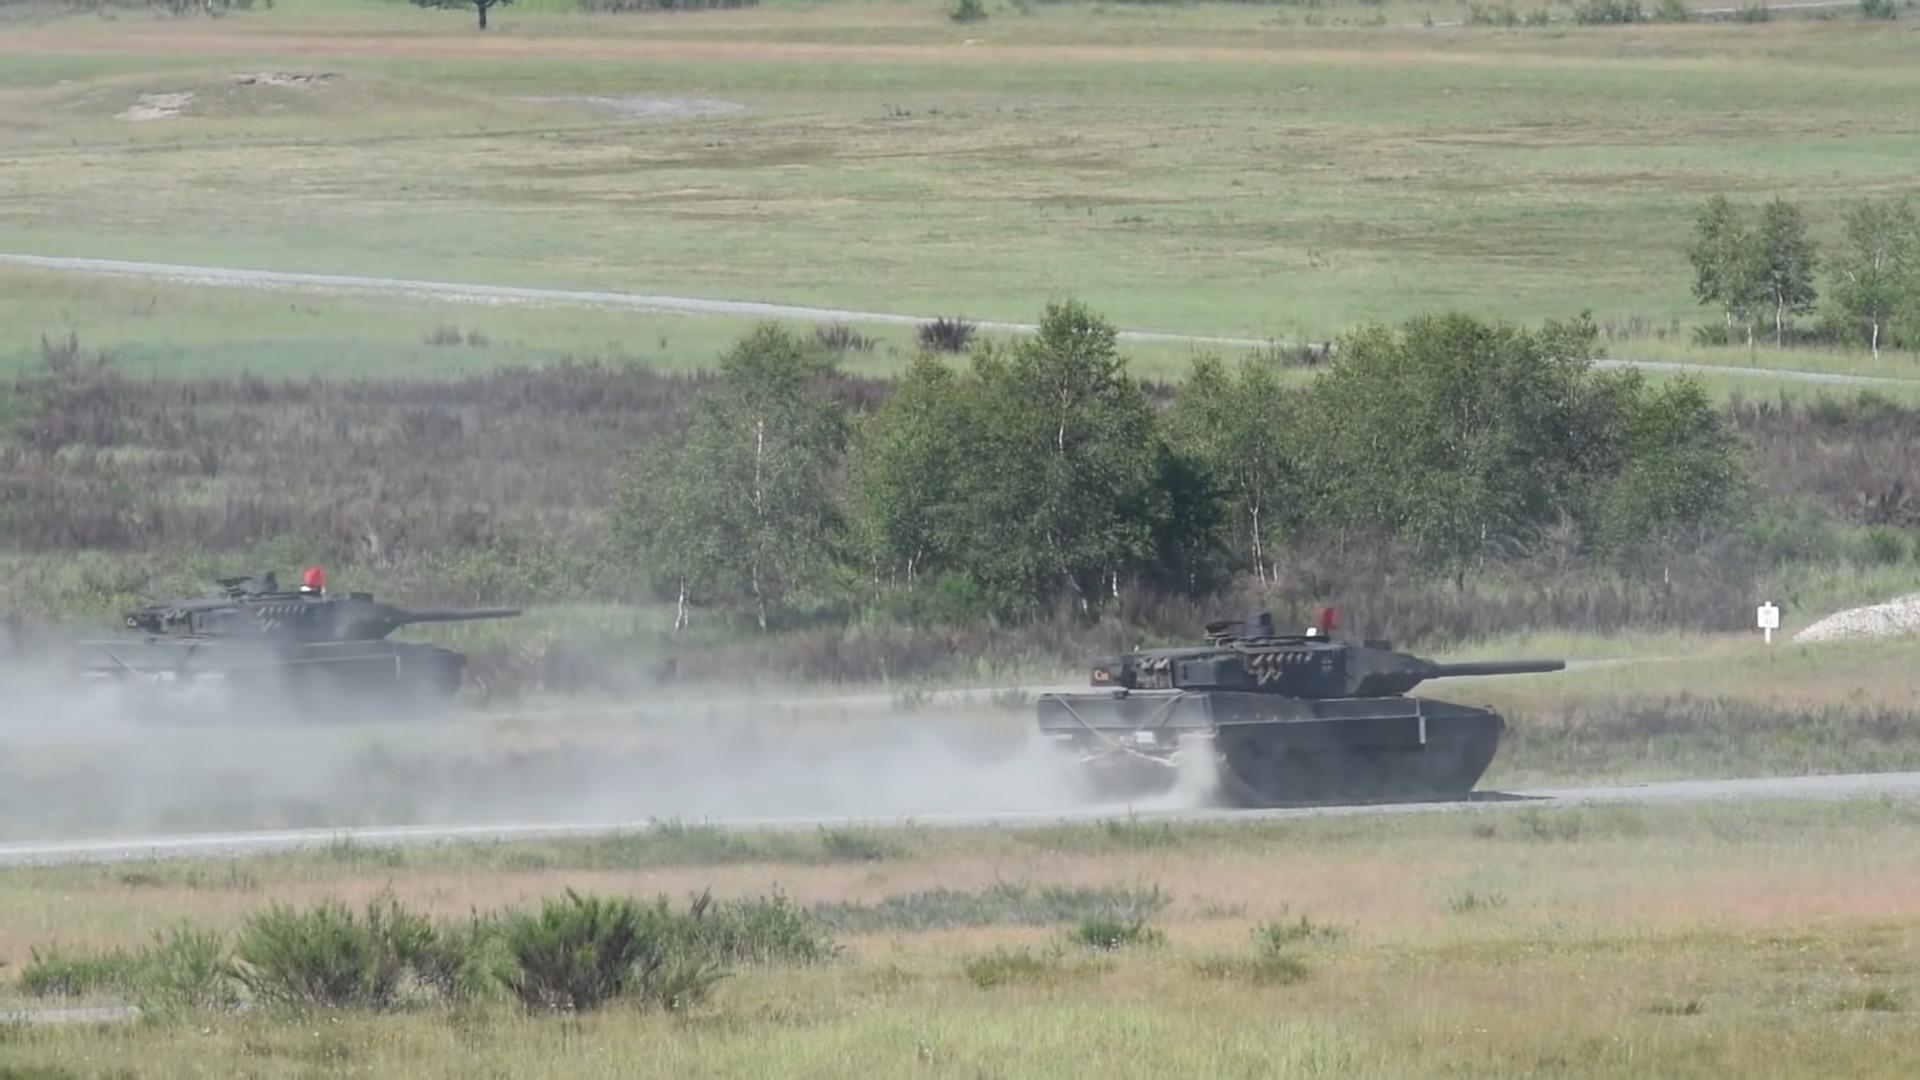tank: (1038, 642, 1568, 807), (78, 599, 524, 721)
